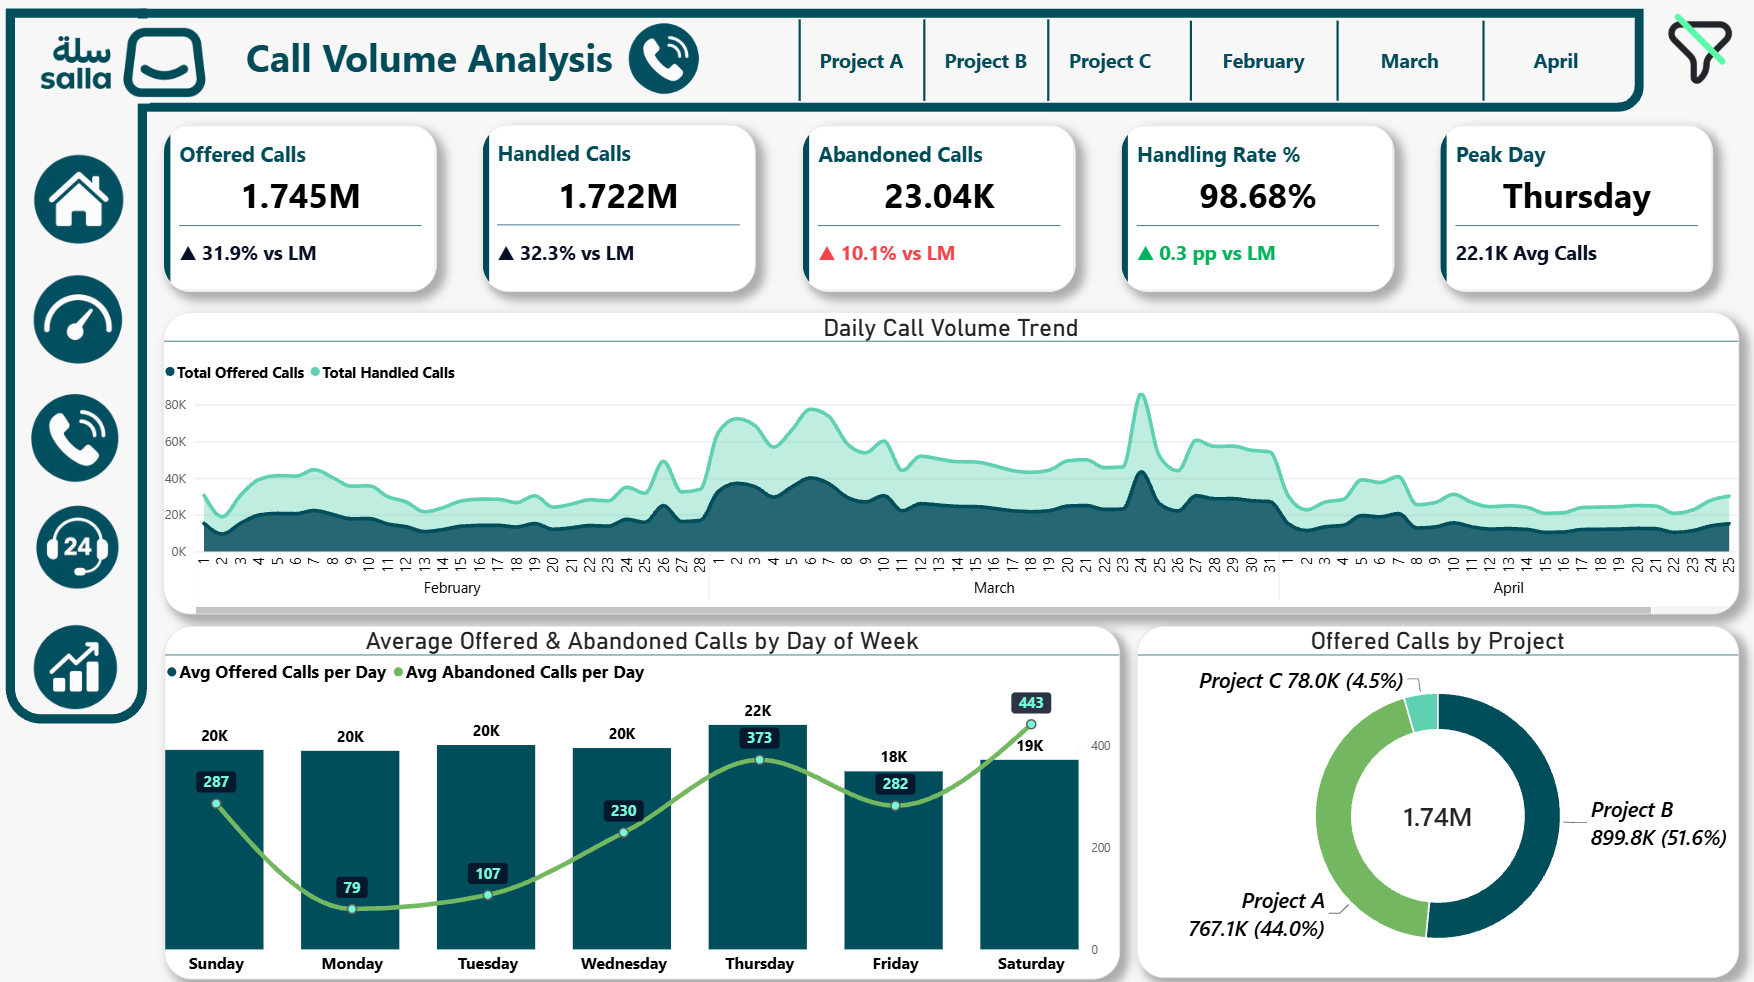

What the dashboard file says about the page in this screenshot:
{"tool":"powerbi","page":{"name":"Call Volume Analysis","canvas":[1920,1080],"ordinal":2},"visuals":[{"type":"shape","box":[154.4,14,1642.4,112.7],"z":0},{"type":"shape","box":[10,14,154,780],"z":1000},{"type":"shape","box":[150.6,24,17.2,93.1],"z":2000},{"type":"slicer","fields":{"Values":["DimDate.Month Name"]},"box":[1280,25,516.7,91.7],"z":3000},{"type":"slicer","fields":{"Values":["Sallah Project.Project"]},"box":[853.3,23.3,445,93.3],"z":4000},{"type":"cardVisual","fields":{"Data":["_Measures.Total Offered Calls"]},"box":[181.7,140.8,298,182],"z":5000},{"type":"cardVisual","fields":{"Data":["_Measures.Total Handled Calls"]},"box":[529.7,140.8,298,182],"z":6000},{"type":"cardVisual","fields":{"Data":["_Measures.Total Abandoned Calls"]},"box":[877.7,140.8,298,182],"z":7000},{"type":"cardVisual","fields":{"Data":["_Measures.Handling Rate %"]},"box":[1225.7,140.8,298,182],"z":8000},{"type":"cardVisual","fields":{"Data":["_Measures.Peak Day"]},"box":[1573.7,140.8,298,182],"z":9000},{"type":"image","box":[10.8,10.8,254.3,122.8],"z":10000},{"type":"image","box":[1816.9,0,83.2,115.8],"z":11000},{"type":"stackedAreaChart","title":"Daily Call Volume Trend","fields":{"Category":["DimDate.Date.Variation.Date Hierarchy.Month","DimDate.Date.Variation.Date Hierarchy.Day"],"Y":["_Measures.Total Offered Calls","_Measures.Total Handled Calls"]},"box":[181,345.6,1719.2,329.4],"z":12000},{"type":"lineClusteredColumnComboChart","title":"Average Offered & Abandoned Calls by Day of Week","fields":{"Category":["DimDate.Day Name","DimDate.Date.Variation.Date Hierarchy.Day"],"Y":["_Measures.Avg Offered Calls per Day"],"Y2":["_Measures.Avg Abandoned Calls per Day"]},"box":[182.8,687.7,1042.4,385.5],"z":13000},{"type":"donutChart","title":"Offered Calls by Project","fields":{"Category":["Sallah Project.Project"],"Y":["_Measures.Total Offered Calls"]},"box":[1243.2,687.7,656.9,383.6],"z":14000},{"type":"image","box":[678.8,15.1,103.4,94.8],"z":20000},{"type":"image","box":[18,156,142,118],"z":20001},{"type":"image","box":[18,286,142,118],"z":20002},{"type":"image","box":[18,416,142,118],"z":20003},{"type":"image","box":[18,546,142,118],"z":20004},{"type":"image","box":[18,676,142,118],"z":20005}]}

Visuals, with their boxes in screenshot pixels (x1, y1, x2, y2), scaled from the page's 1920x1080 canvas onto the 1754x982 screenshot:
shape: 141:13:1641:115
shape: 9:13:150:722
shape: 138:22:153:106
slicer - DimDate.Month Name: 1169:23:1641:106
slicer - Sallah Project.Project: 780:21:1186:106
cardVisual - _Measures.Total Offered Calls: 166:128:438:294
cardVisual - _Measures.Total Handled Calls: 484:128:756:294
cardVisual - _Measures.Total Abandoned Calls: 802:128:1074:294
cardVisual - _Measures.Handling Rate %: 1120:128:1392:294
cardVisual - _Measures.Peak Day: 1438:128:1710:294
image: 10:10:242:121
image: 1660:0:1736:105
"Daily Call Volume Trend" stackedAreaChart: 165:314:1736:614
"Average Offered & Abandoned Calls by Day of Week" lineClusteredColumnComboChart: 167:625:1119:976
"Offered Calls by Project" donutChart: 1136:625:1736:974
image: 620:14:715:100
image: 16:142:146:249
image: 16:260:146:367
image: 16:378:146:486
image: 16:496:146:604
image: 16:615:146:722
